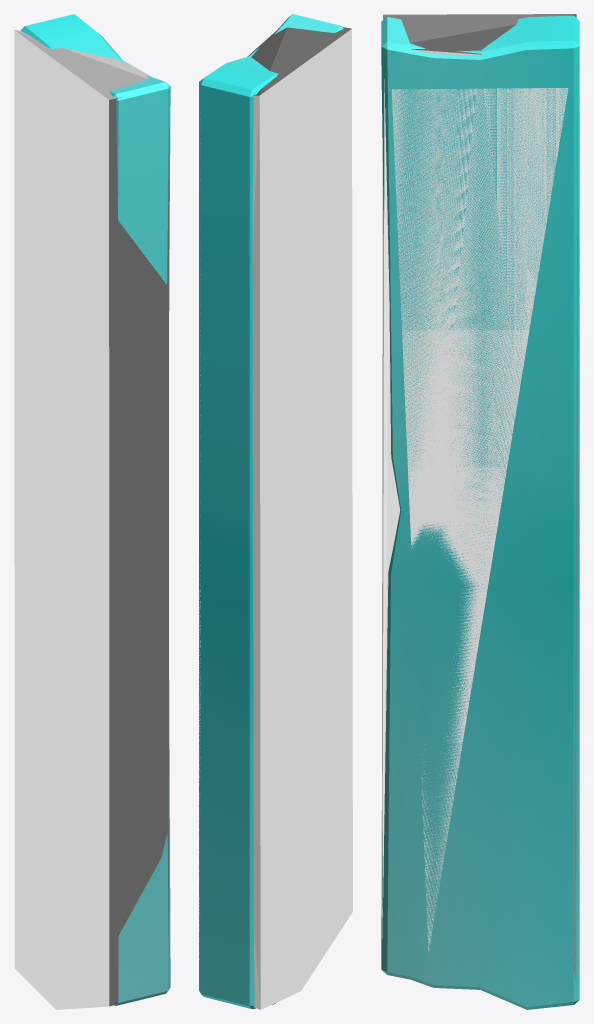
Rendered from SM_WoodenPlanks_02_.fbx.
The picture shows the model from 3 angles, left to right: view 1: azimuth 30°, elevation 25°; view 2: azimuth 150°, elevation 25°; view 3: azimuth 270°, elevation 25°; orthographic projection. The views are drawn at different scales.
Visible parts, largest first — view 1: SM_WoodenPlanks_02_ConvexHulls, SM_WoodenPlanks_02_LOD0; view 2: SM_WoodenPlanks_02_ConvexHulls, SM_WoodenPlanks_02_LOD0; view 3: SM_WoodenPlanks_02_LOD0, SM_WoodenPlanks_02_ConvexHulls.
Part boxes in pixels (x1,y1,x2,y2): SM_WoodenPlanks_02_ConvexHulls: [14, 30, 169, 1009]; SM_WoodenPlanks_02_LOD0: [21, 14, 170, 1005]; SM_WoodenPlanks_02_ConvexHulls: [199, 27, 352, 1009]; SM_WoodenPlanks_02_LOD0: [199, 14, 343, 1009]; SM_WoodenPlanks_02_LOD0: [381, 15, 579, 1009]; SM_WoodenPlanks_02_ConvexHulls: [381, 14, 577, 982].
Size of the model in its own units: 11.17 by 29.31 by 159.
